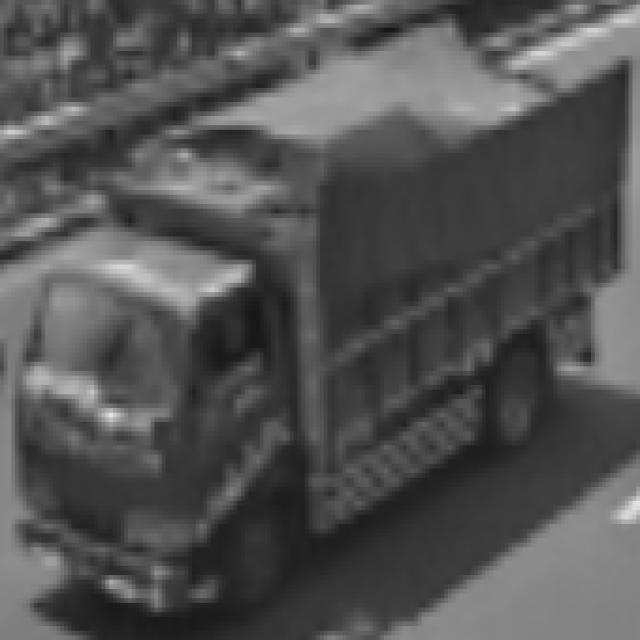truck: (1, 215, 315, 622)
